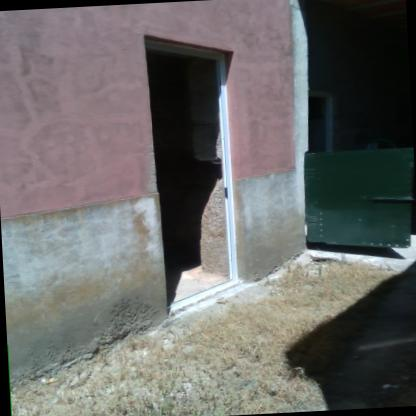closed: (273, 0, 416, 282)
semi: (133, 25, 257, 312)
